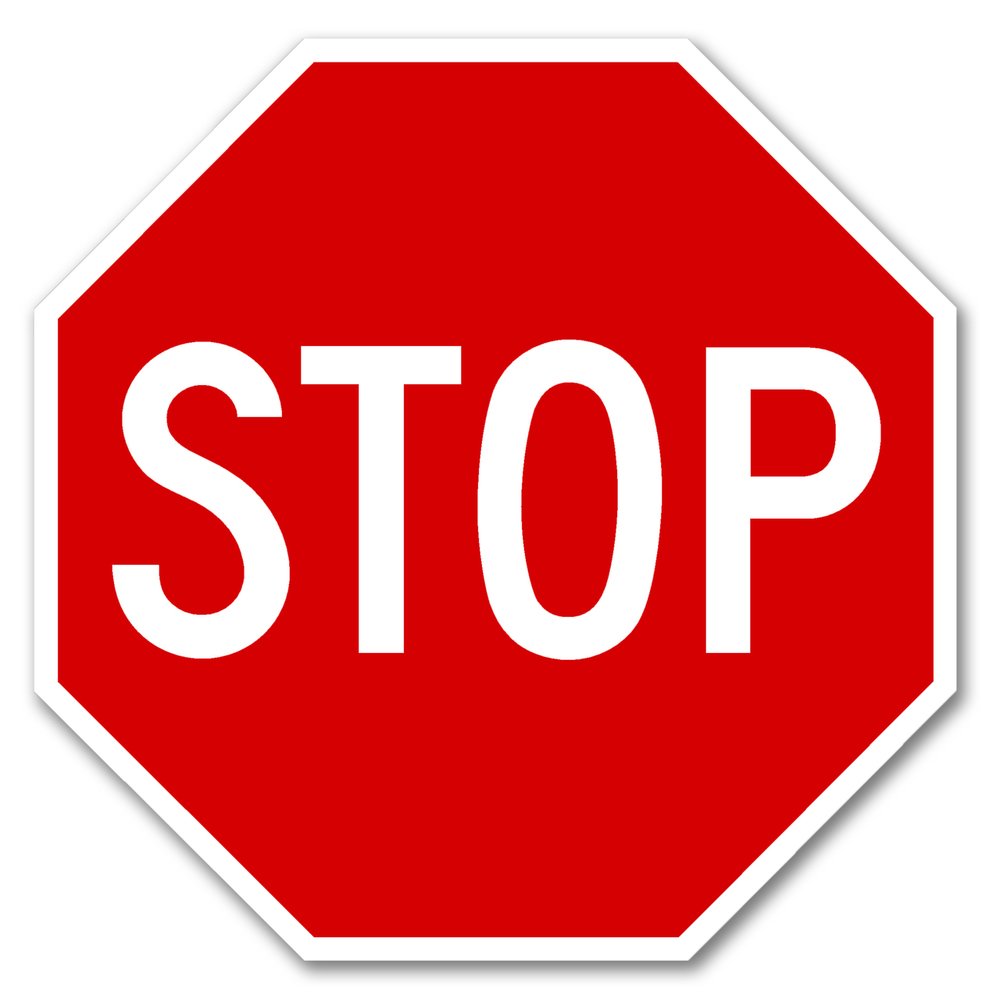STOP: (33, 36, 959, 961)
